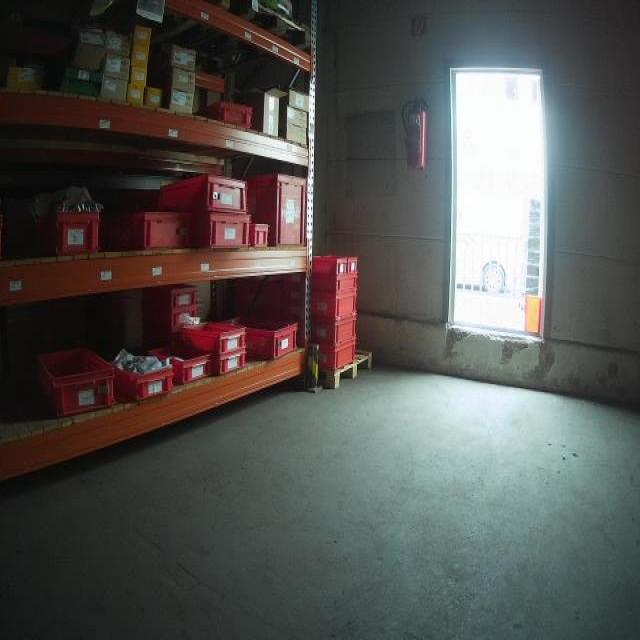pallet: (154, 4, 314, 70), (103, 0, 260, 54), (311, 343, 375, 390)
small_load_carrier: (34, 335, 121, 419), (250, 169, 307, 253), (160, 171, 254, 213), (220, 314, 300, 362), (110, 202, 191, 248), (117, 347, 174, 411), (37, 204, 100, 254), (190, 209, 257, 252), (148, 342, 211, 386), (177, 318, 248, 354), (194, 94, 259, 133), (312, 315, 359, 344), (312, 345, 362, 371), (314, 290, 359, 315), (214, 348, 248, 379), (314, 270, 359, 292), (311, 251, 348, 273), (250, 219, 272, 253), (345, 257, 360, 270)
